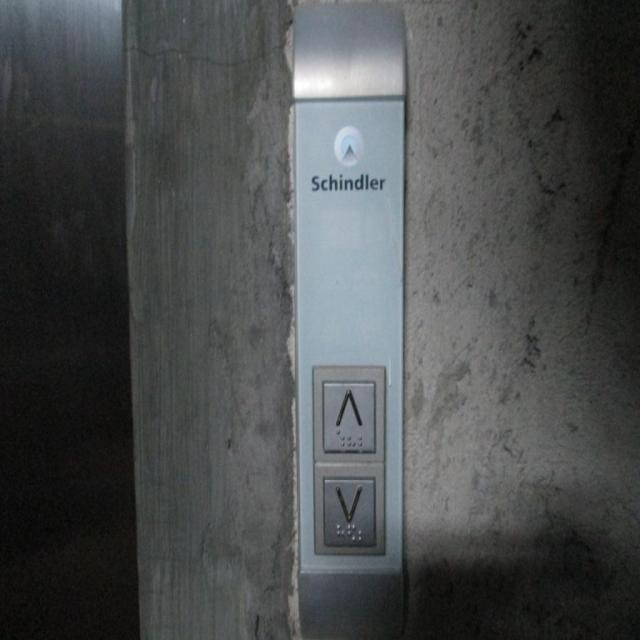down: (320, 470, 380, 555)
up: (319, 371, 379, 456)
